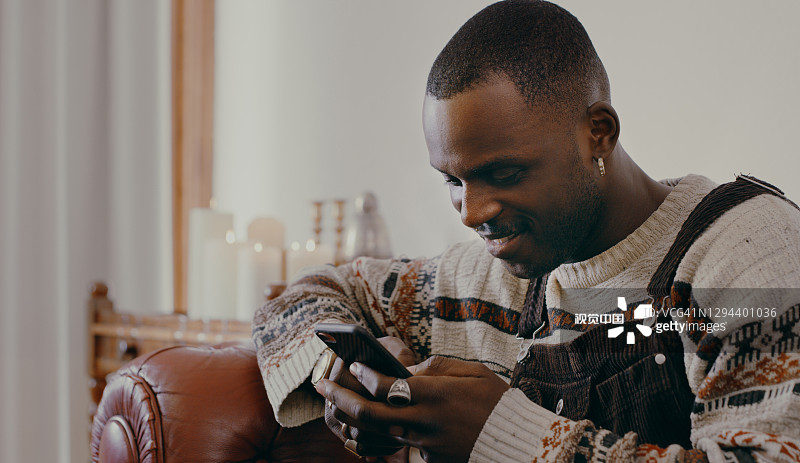reading: (292, 310, 523, 463)
